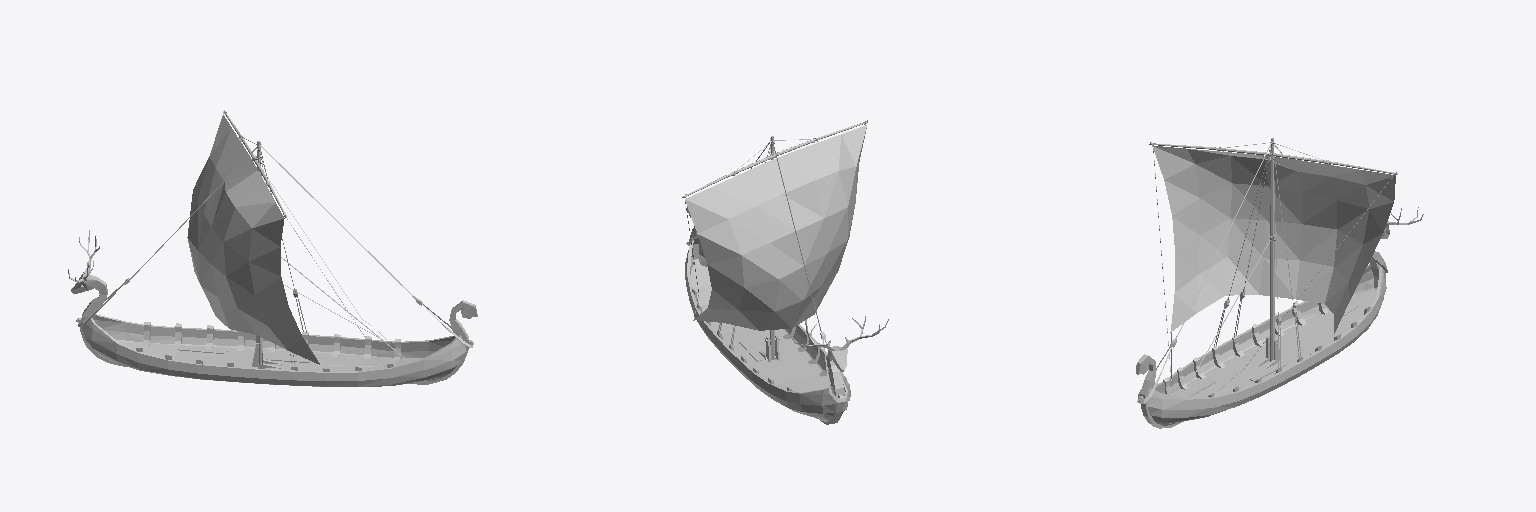
Rendered from ship.obj.
3 renders of one model, left to right at view 1: azimuth 30°, elevation 25°; view 2: azimuth 150°, elevation 25°; view 3: azimuth 270°, elevation 25°, orthographic.
Visible parts, largest first — view 1: Keel.000_Cube.009; view 2: Keel.000_Cube.009; view 3: Keel.000_Cube.009.
Boxes of the visible parts, box(x1,y1,x2,y2) form: Keel.000_Cube.009: box(68, 110, 477, 386); Keel.000_Cube.009: box(682, 120, 888, 424); Keel.000_Cube.009: box(1136, 138, 1423, 428).
Size of the model in its own units: 3.46 by 2.56 by 2.86.